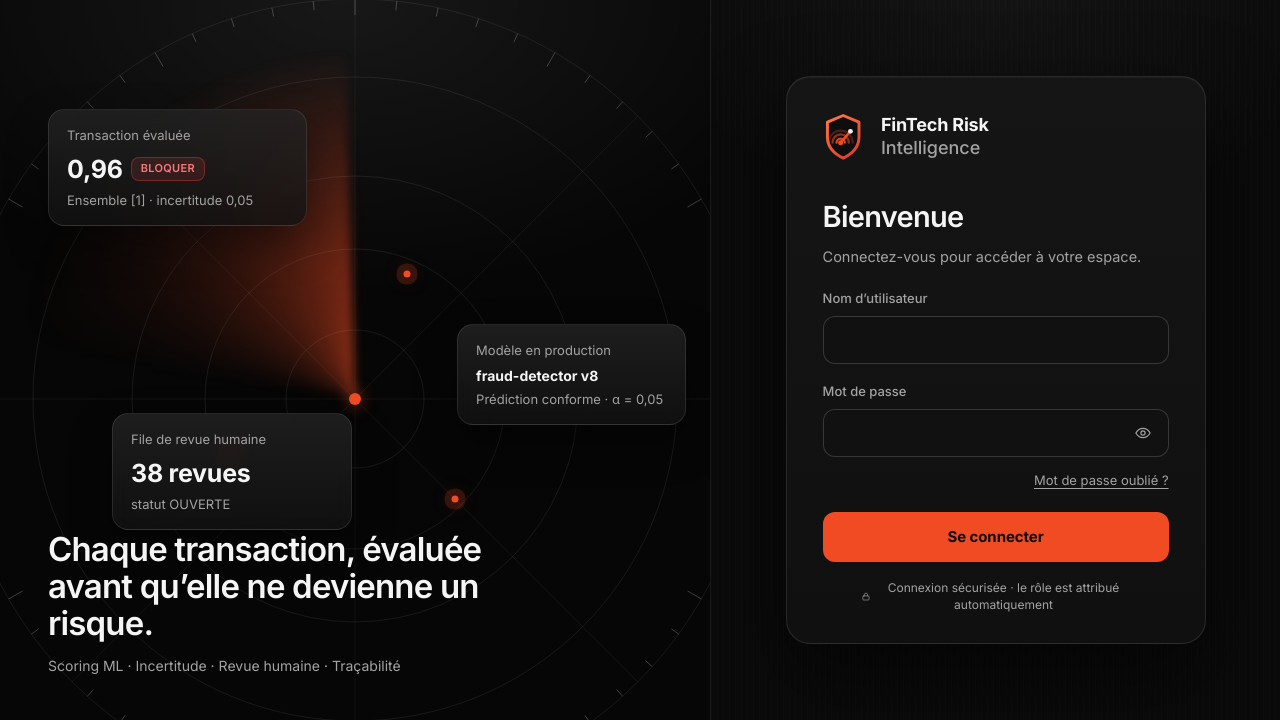
Test: connexion › signale des identifiants invalides (401) sans changer de page
Type "analyste1" into the field labelled "Nom d’utilisateur". click: (996, 340)
box: [822,316,1168,364]
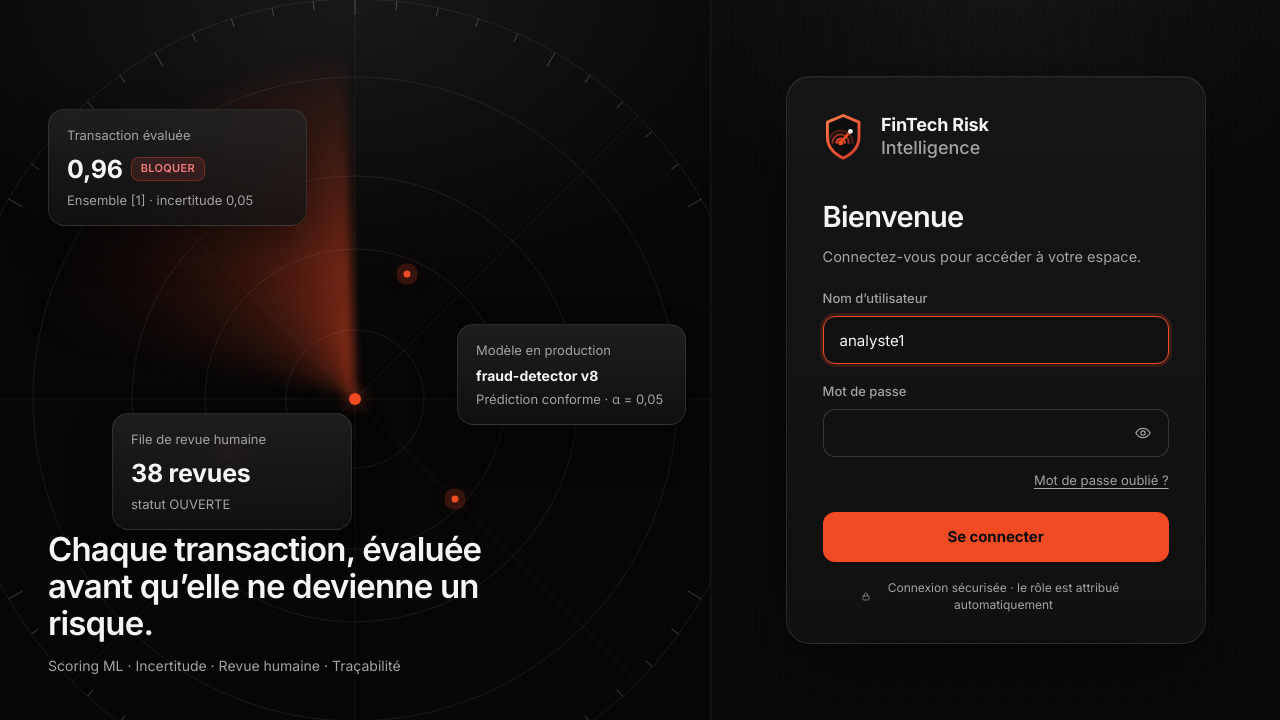
Type "mauvais" into the password field labelled "Mot de passe". click: (996, 433)
box: [822,409,1168,457]
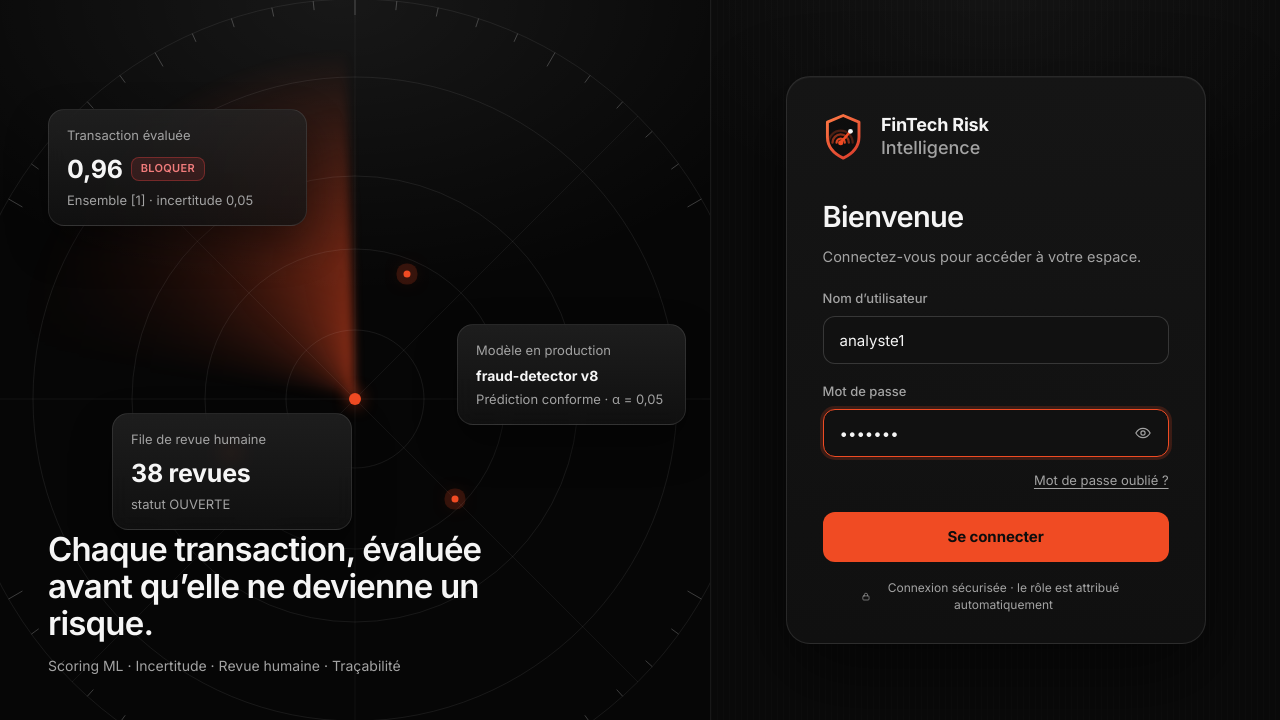
Click the button "Se connecter". click: click(996, 537)
box: [822,512,1168,562]
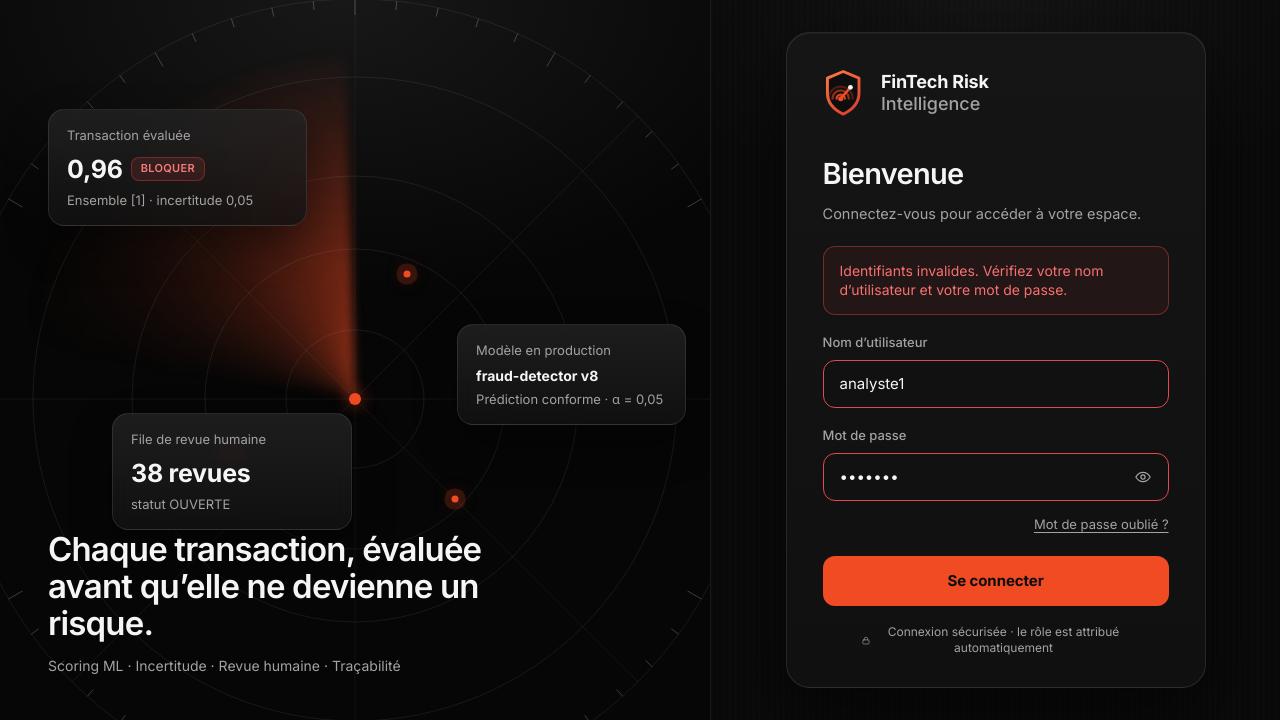
Check: the message shows "Identifiants invalides", box [840,262,1104,298]
